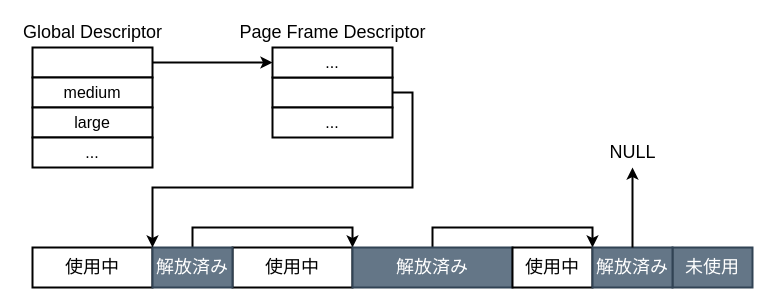
This 770x305 diagram has some shape labels left out. The shapes that lost their labels are listed below. From the top down, each one's box as (x1, y1, x2, y2) in pixels, then its label:
(31, 46, 153, 78): small
(271, 76, 393, 108): freelist
